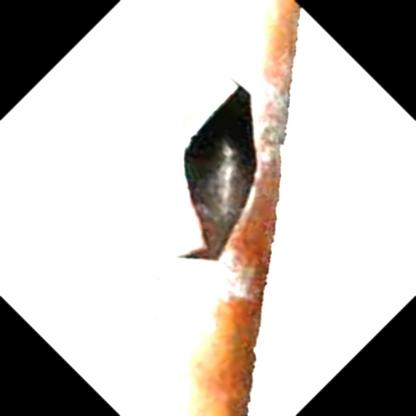burst: (156, 79, 278, 284)
